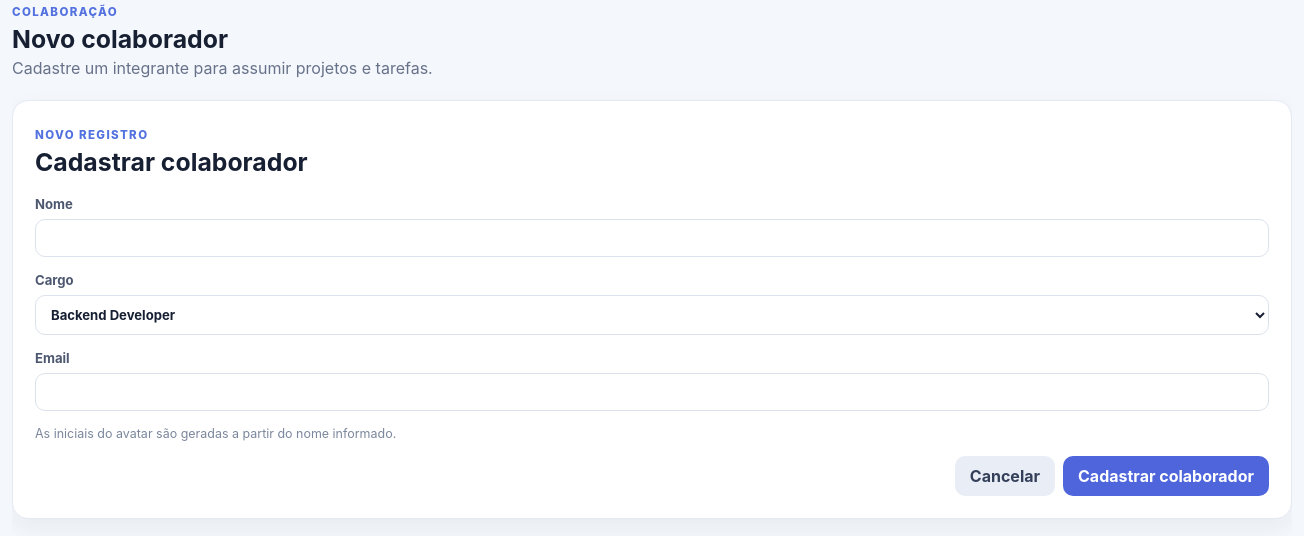
TeamMemberFormPage › sends the trimmed data and goes back to the team list
Type "Renata Vasconcelos" into the field labelled "Nome".
click(652, 238); type("Renata Vasconcelos")  # box [35, 219, 1269, 257]
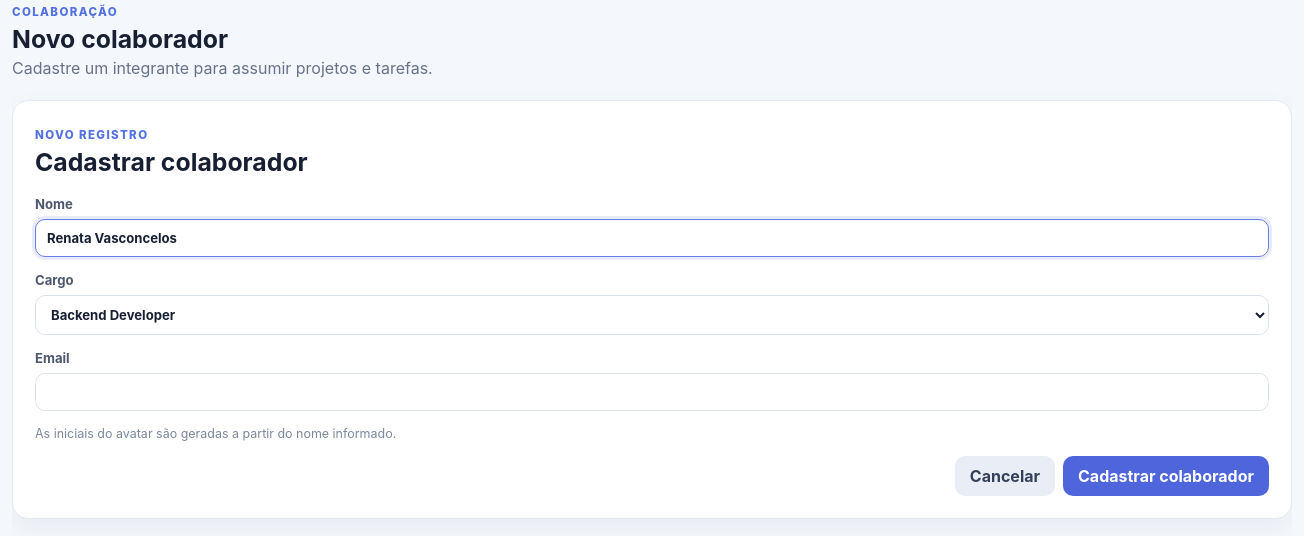
Select "Backend Developer" in the dropdown labelled "Cargo" at (652, 315), box [35, 295, 1269, 335]
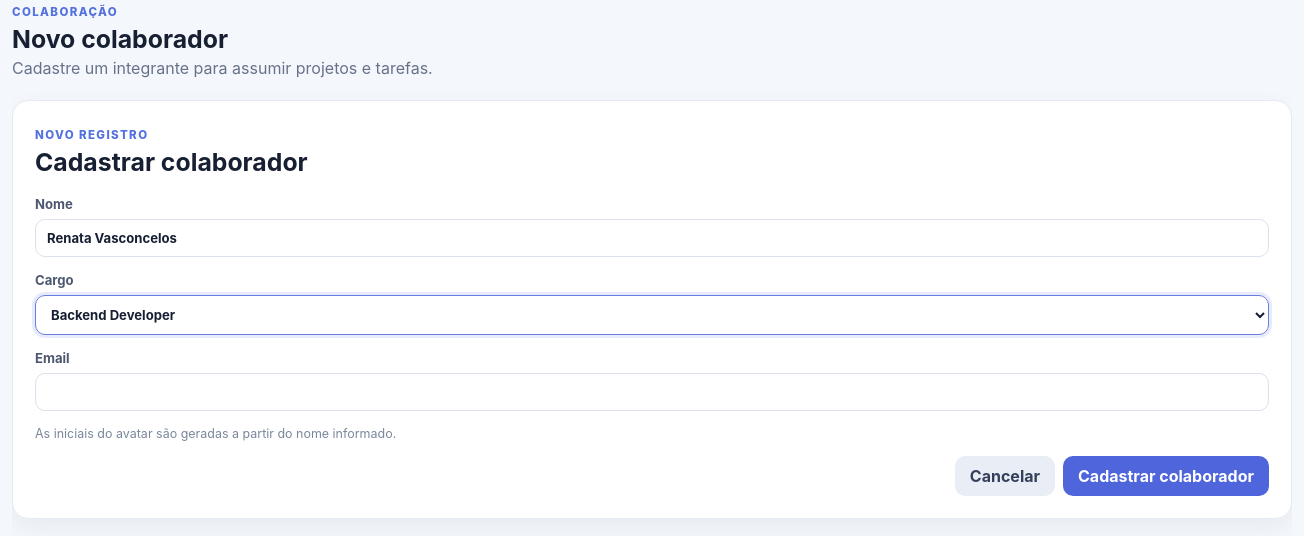
Type "renata.vasconcelos@example.com" into the field labelled "Email".
click(652, 392); type("renata.vasconcelos@example.com")  # box [35, 373, 1269, 411]
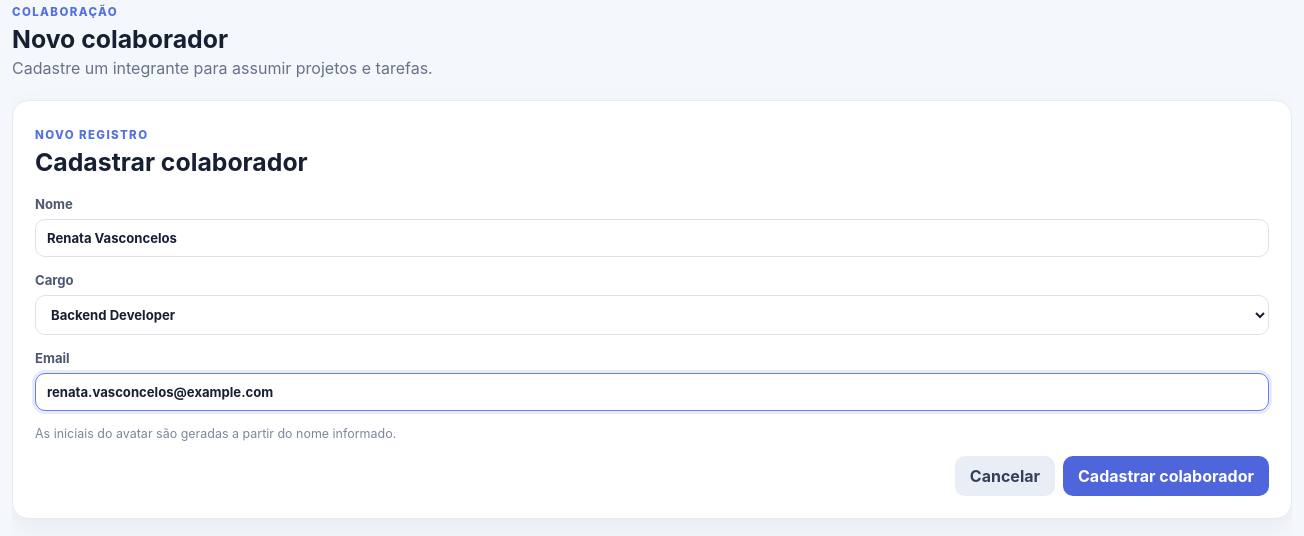
Click the button "Cadastrar colaborador".
click(1166, 476)  # box [1063, 456, 1269, 496]
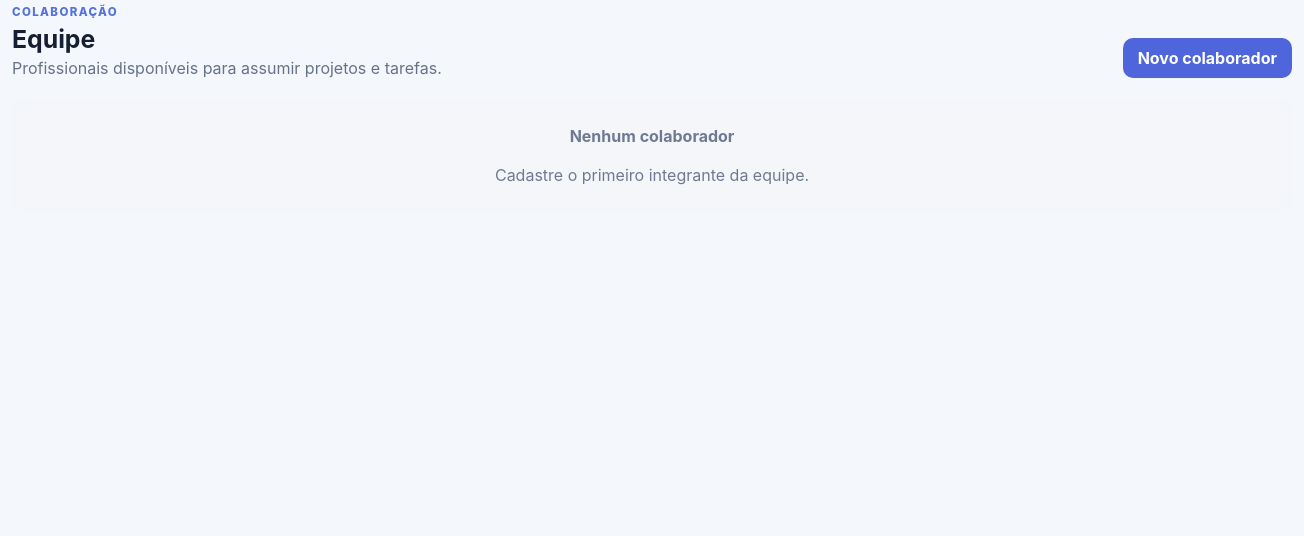
Expected: the heading "Equipe" is shown, [12, 24, 95, 54]
